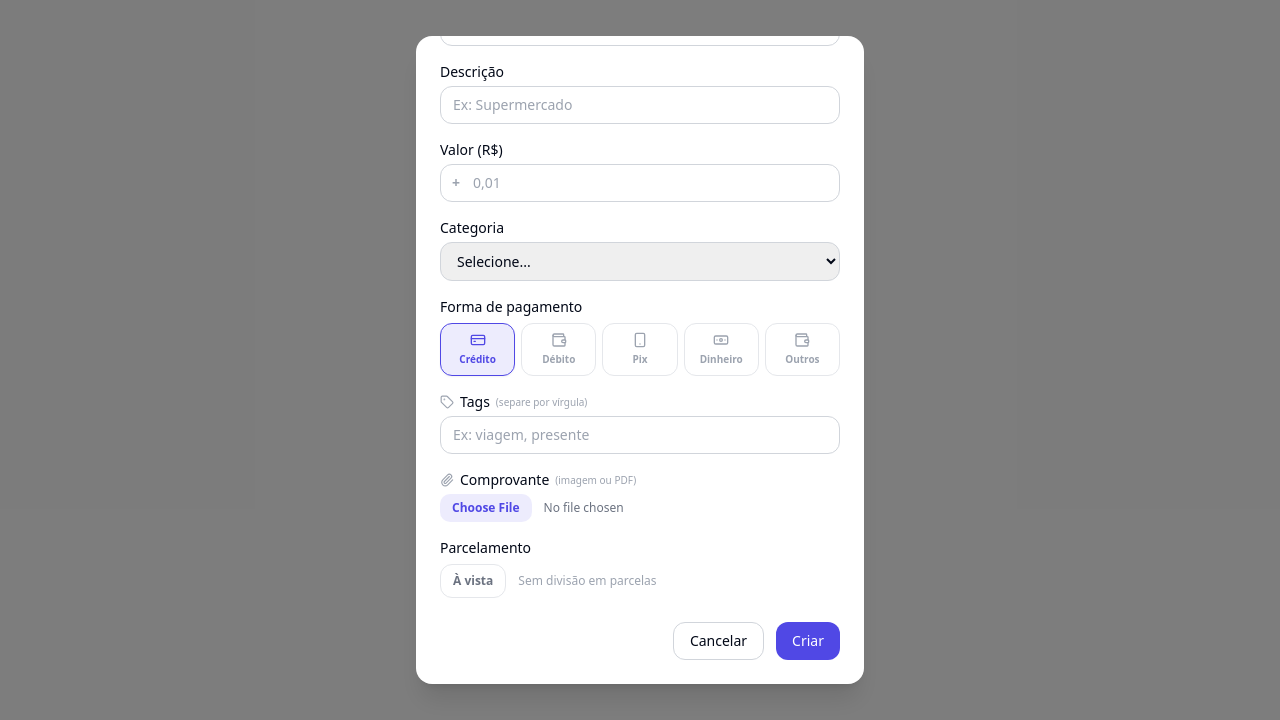
Test case: TransactionModal › shows validation errors for empty fields
The width and height of the screenshot is (1280, 720).
(page scrolled)
Click the button "Criar": [808, 641] box [776,622,840,660]
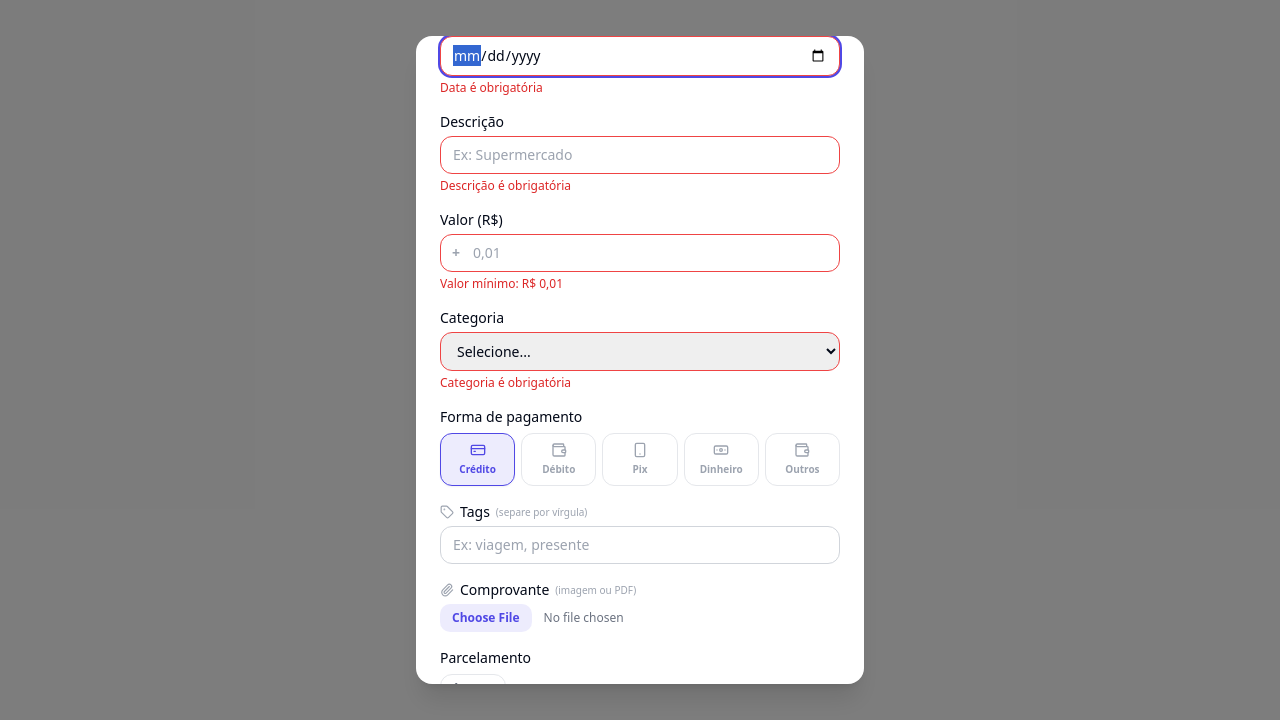
Now the text "Data é obrigatória" is shown, box [440,79,543,96]
Now the text "Descrição é obrigatória" is shown, box [440,177,571,194]
Now the text "Valor mínimo: R$ 0,01" is shown, box [440,275,563,292]
